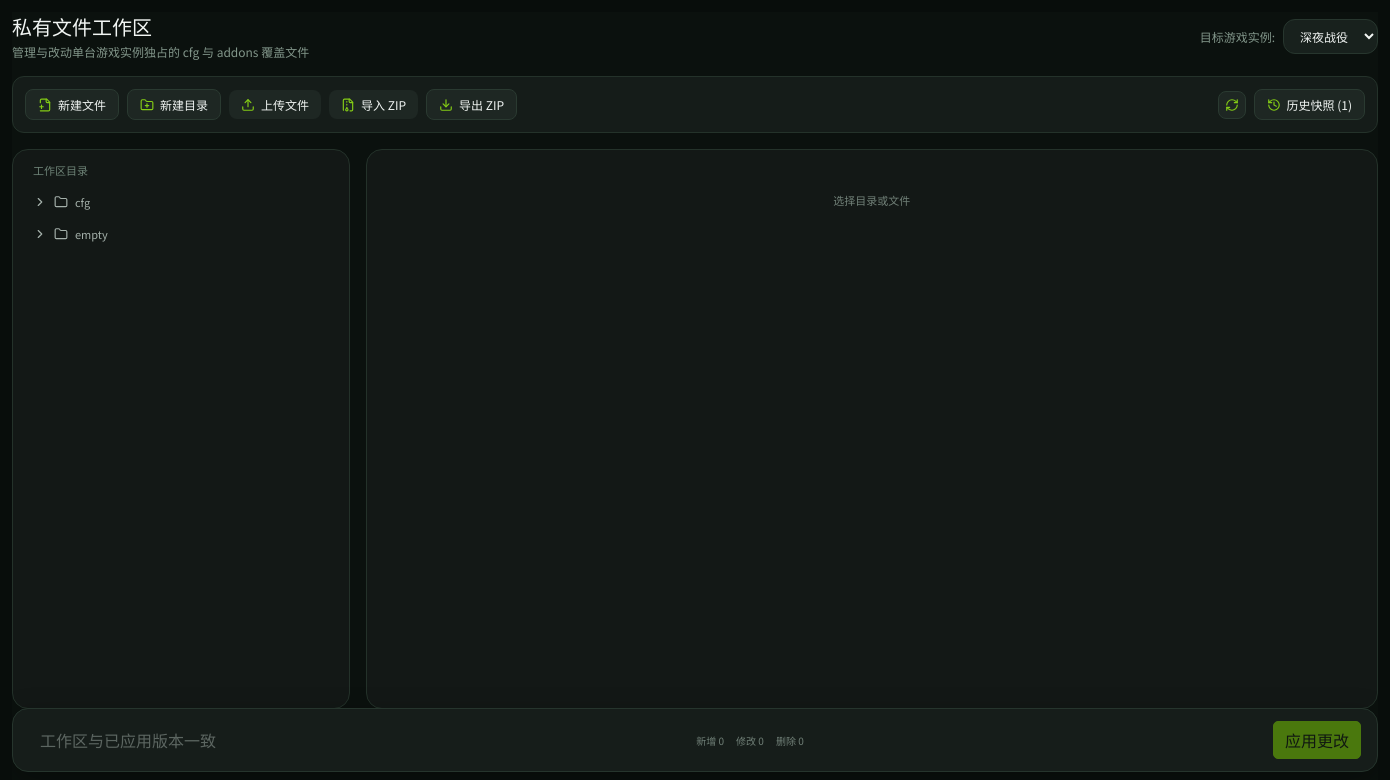
Test: PrivateFilesPage › uses the reference workspace header and reveals selected-entry actions in the top toolbar
The image size is (1390, 780).
Expected: the heading "私有文件工作区" is shown, [12,12,152,41]
Expected: the text "管理与改动单台游戏实例独占的 cfg 与 addons 覆盖文件" is shown, [12,43,309,60]
Click the list item "cfg".
click(40, 202)  # box [25,186,336,218]
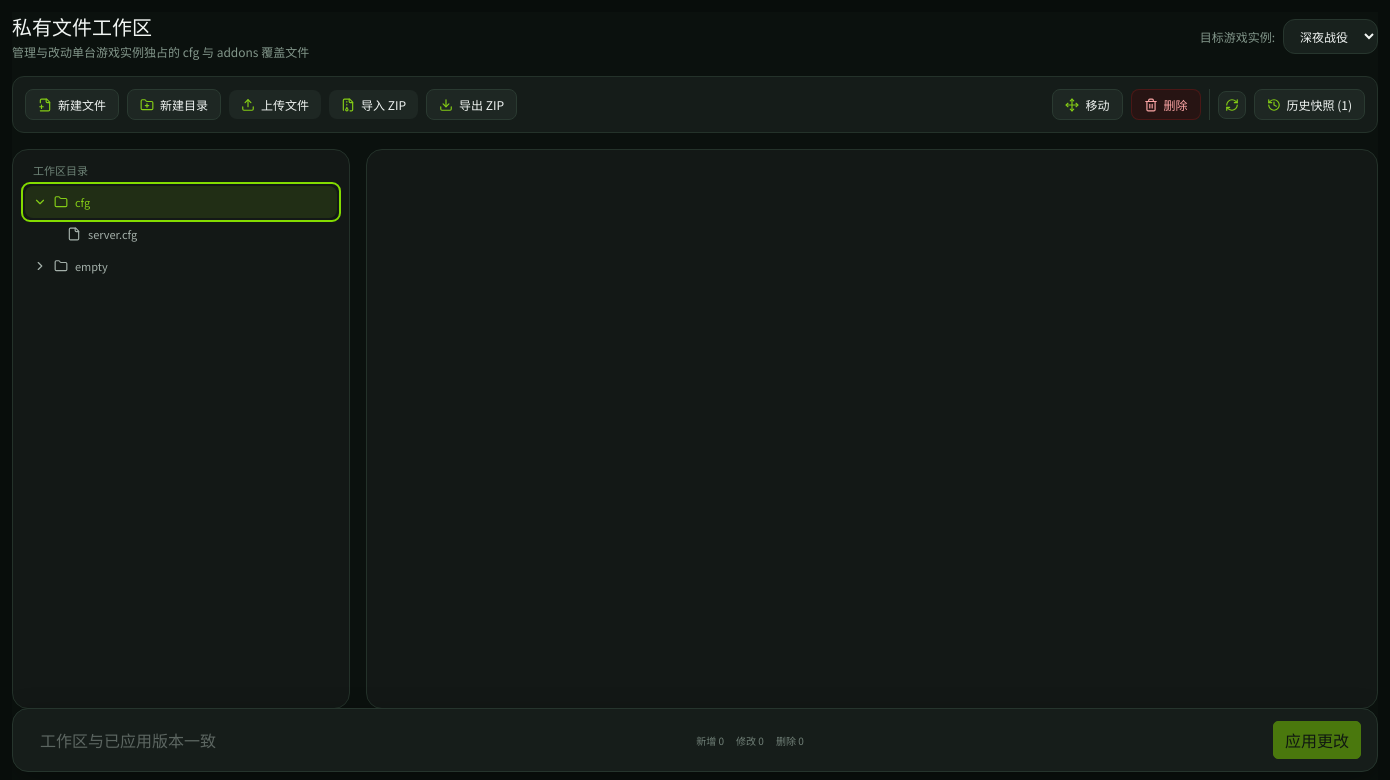
Click the list item "server.cfg".
click(113, 234)  # box [39,218,336,250]
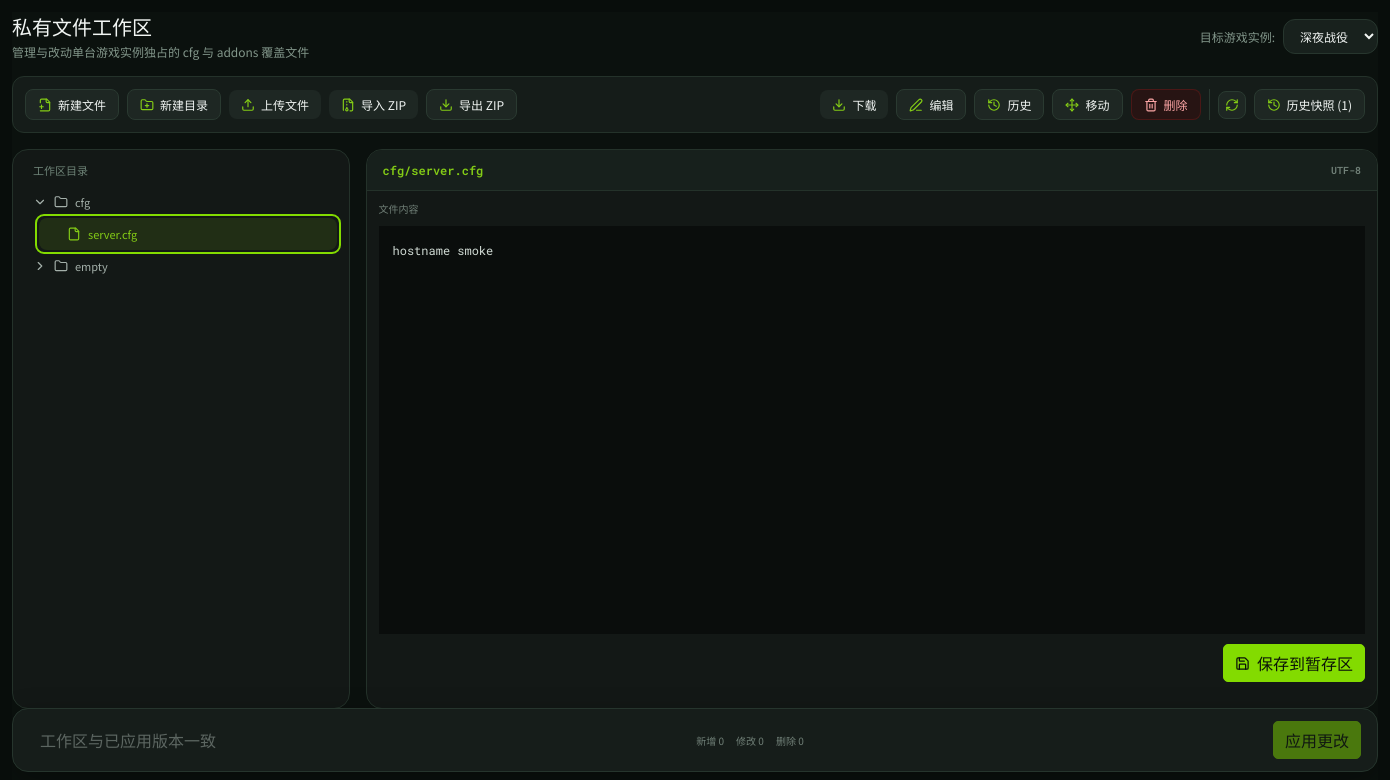
Expected: the button with aria-label "移动 server.cfg" is shown, [1052,89,1122,120]
Expected: the button with aria-label "编辑 server.cfg" is shown, [896,89,966,120]
